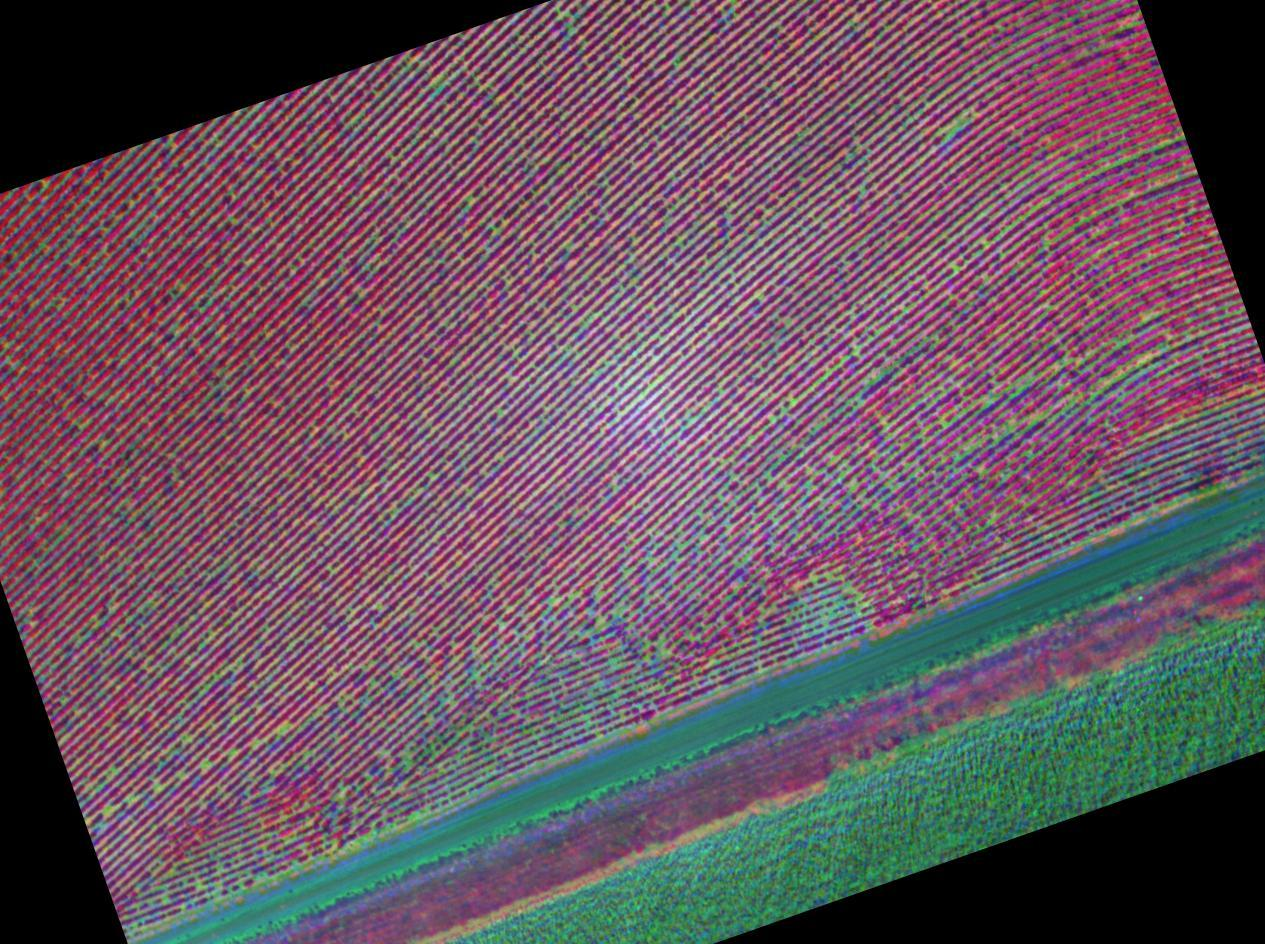dc: (947, 128, 953, 134), (393, 673, 399, 679), (854, 348, 860, 353), (231, 751, 237, 756), (187, 737, 192, 742), (574, 306, 578, 311), (832, 458, 837, 462), (625, 548, 629, 553), (844, 585, 848, 590), (551, 600, 555, 605), (757, 292, 761, 296), (80, 426, 84, 430), (395, 509, 399, 513), (775, 519, 779, 523), (659, 642, 663, 646), (416, 643, 420, 647), (221, 671, 225, 675), (502, 622, 505, 627), (1032, 207, 1035, 211), (673, 554, 676, 558), (526, 637, 529, 641), (444, 698, 447, 702), (578, 708, 582, 711), (99, 621, 102, 624)
